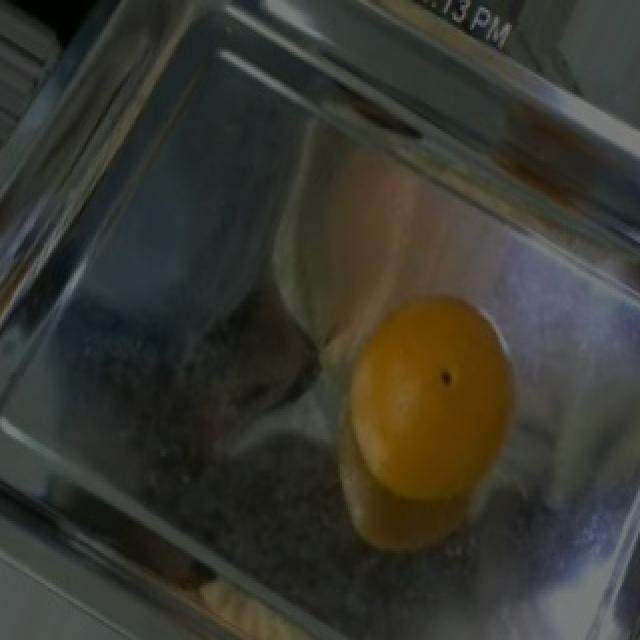Fruit: (316, 273, 540, 546)
